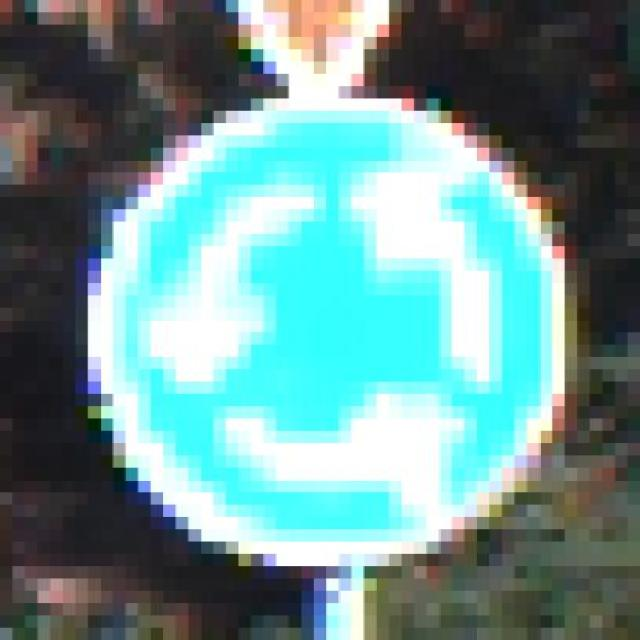Round-About: (50, 74, 590, 603)
